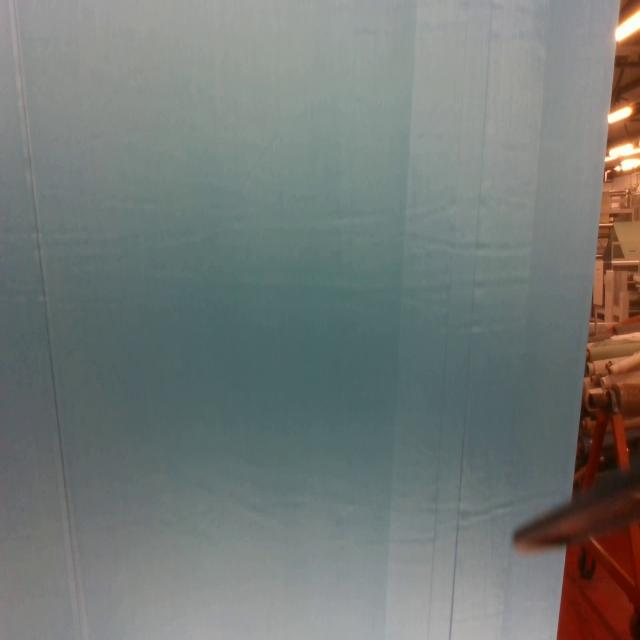crease: (11, 0, 87, 640), (426, 0, 494, 640)
